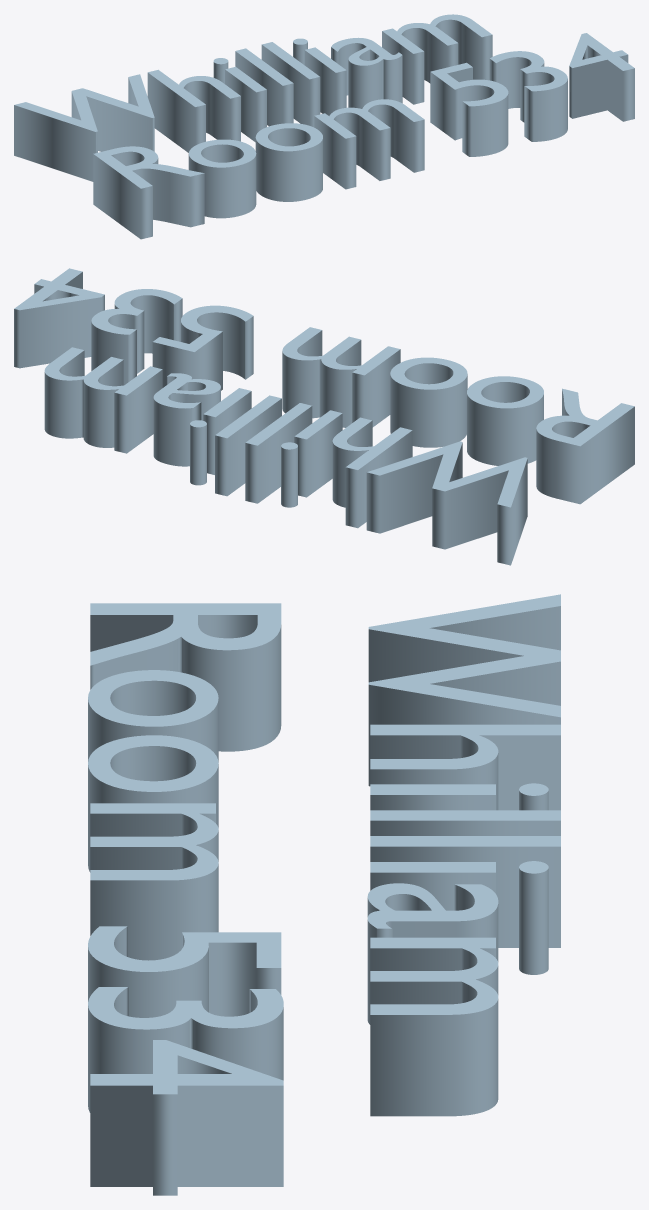
File: whilliam-534.gltf
The picture shows the model from 3 angles, top to bottom: view 1: azimuth 30°, elevation 25°; view 2: azimuth 150°, elevation 25°; view 3: azimuth 270°, elevation 25°; orthographic projection. The views are drawn at different scales.
Parts seen in each view (by area): view 1: Text; view 2: Text; view 3: Text.
Boxes of the visible parts, x1,y1,x2,y2 form: Text: [14, 14, 634, 239]; Text: [14, 268, 634, 565]; Text: [88, 594, 560, 1195].
Bounding box in the file's own units: 4.23 × 0.4 × 1.69.
